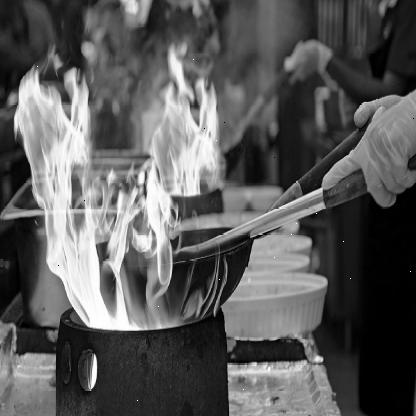fire: (6, 40, 231, 333)
